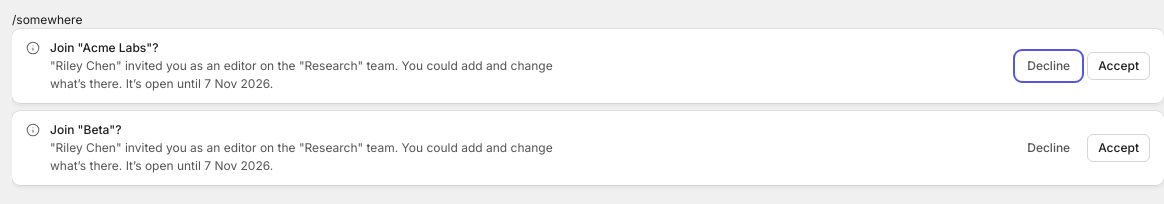
the invitations waiting for a person › move focus to the next one's Accept once one is declined
Click the button "Decline" in the row of "\"Acme Labs\"": (1049, 66) [1016, 52, 1081, 80]
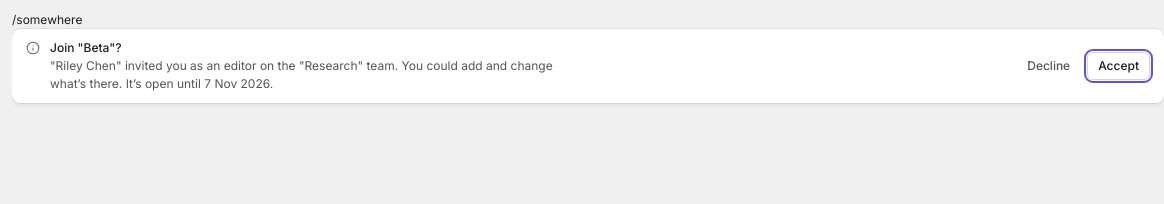
Now the number of list items is 1, box [12, 29, 1163, 103]
